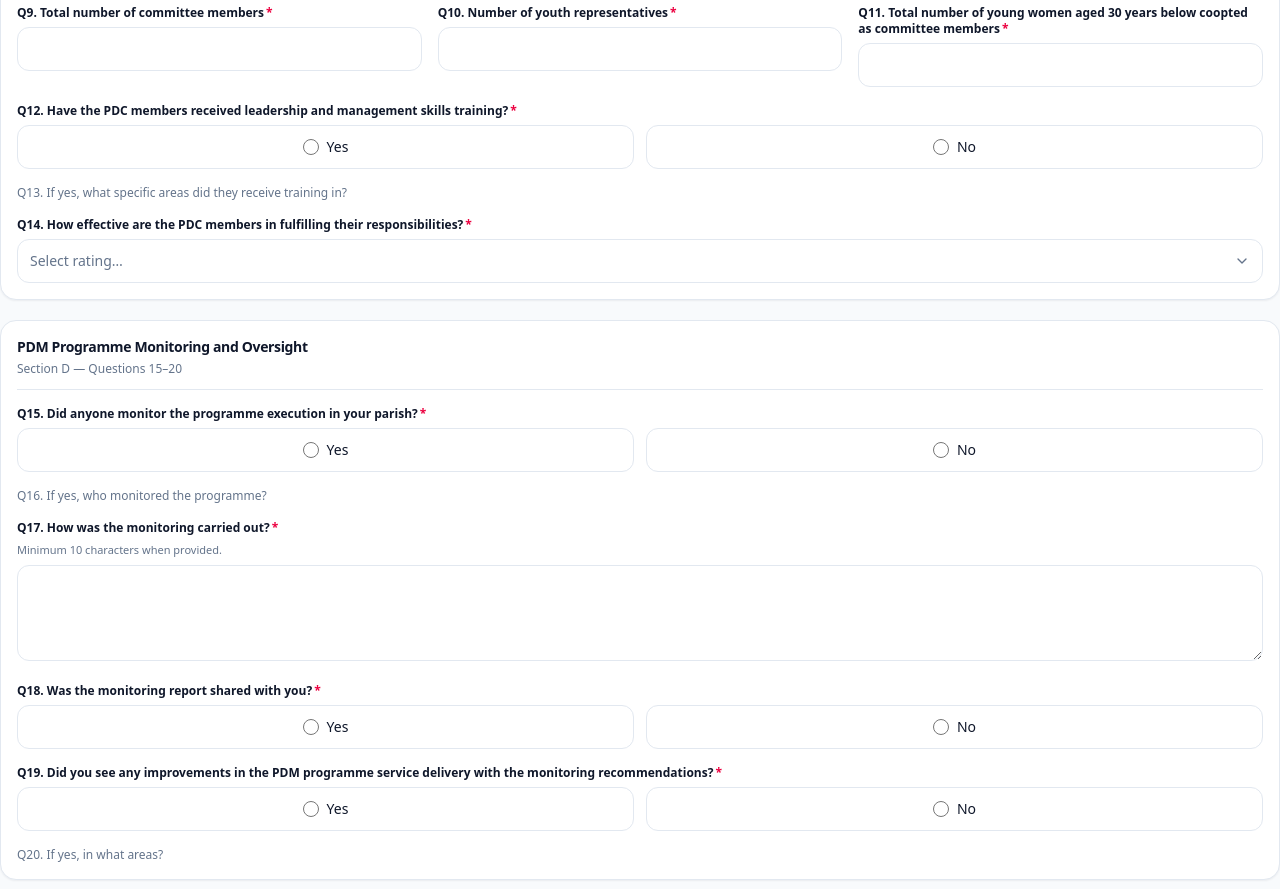
Test: PcForm › Q15 Yes shows Q16 checkboxes dynamically
The width and height of the screenshot is (1280, 889).
(page scrolled)
Check: the field labelled "CAO" is not shown
Click the 3rd radio button at (311, 450), box [303, 442, 319, 458]
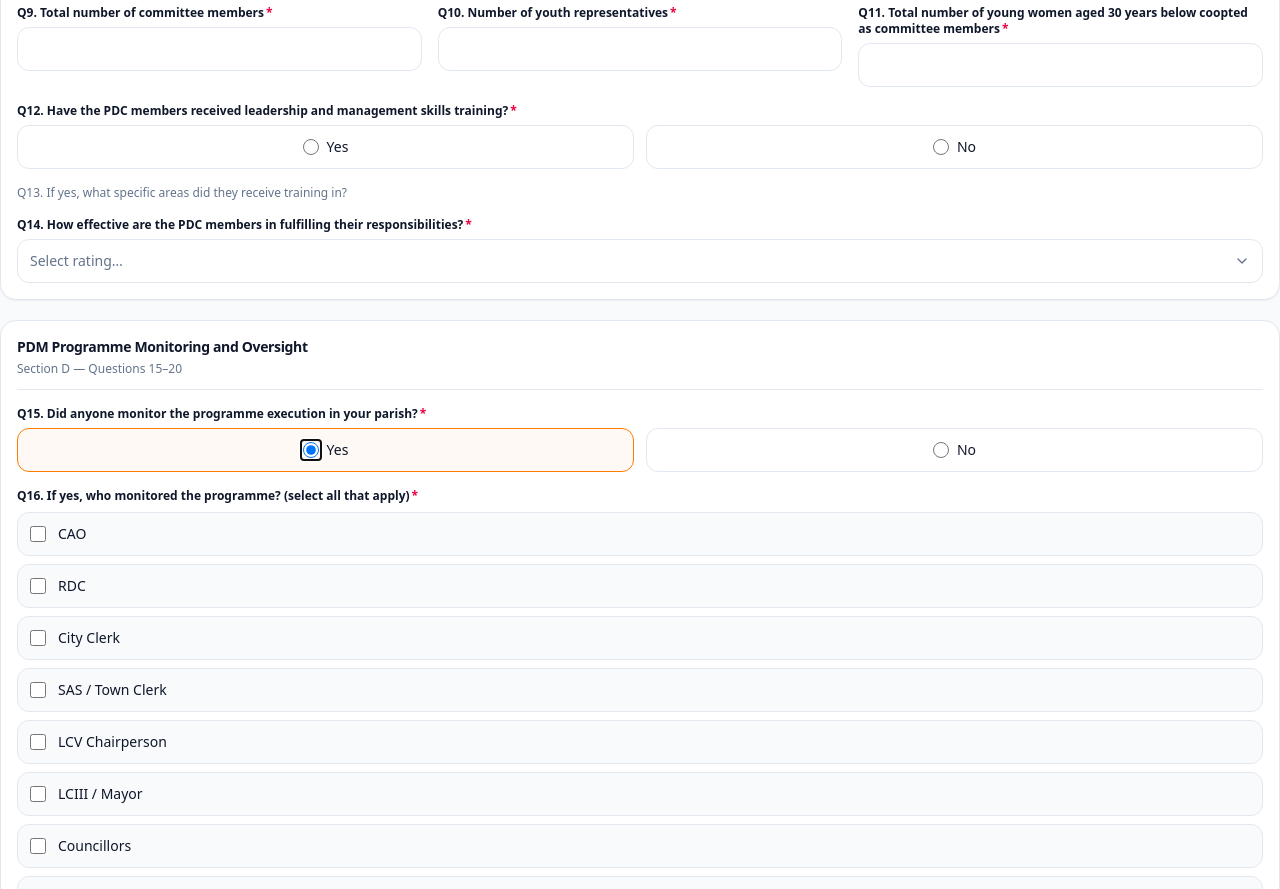
Check: the checkbox labelled "CAO" is shown, box [30, 526, 46, 542]
Check: the text "Q16. If yes, who monitored the programme? (select all that apply)" is shown, box [17, 487, 410, 504]
Click the 2nd radio button labelled "No" at (941, 450), box [933, 442, 949, 458]
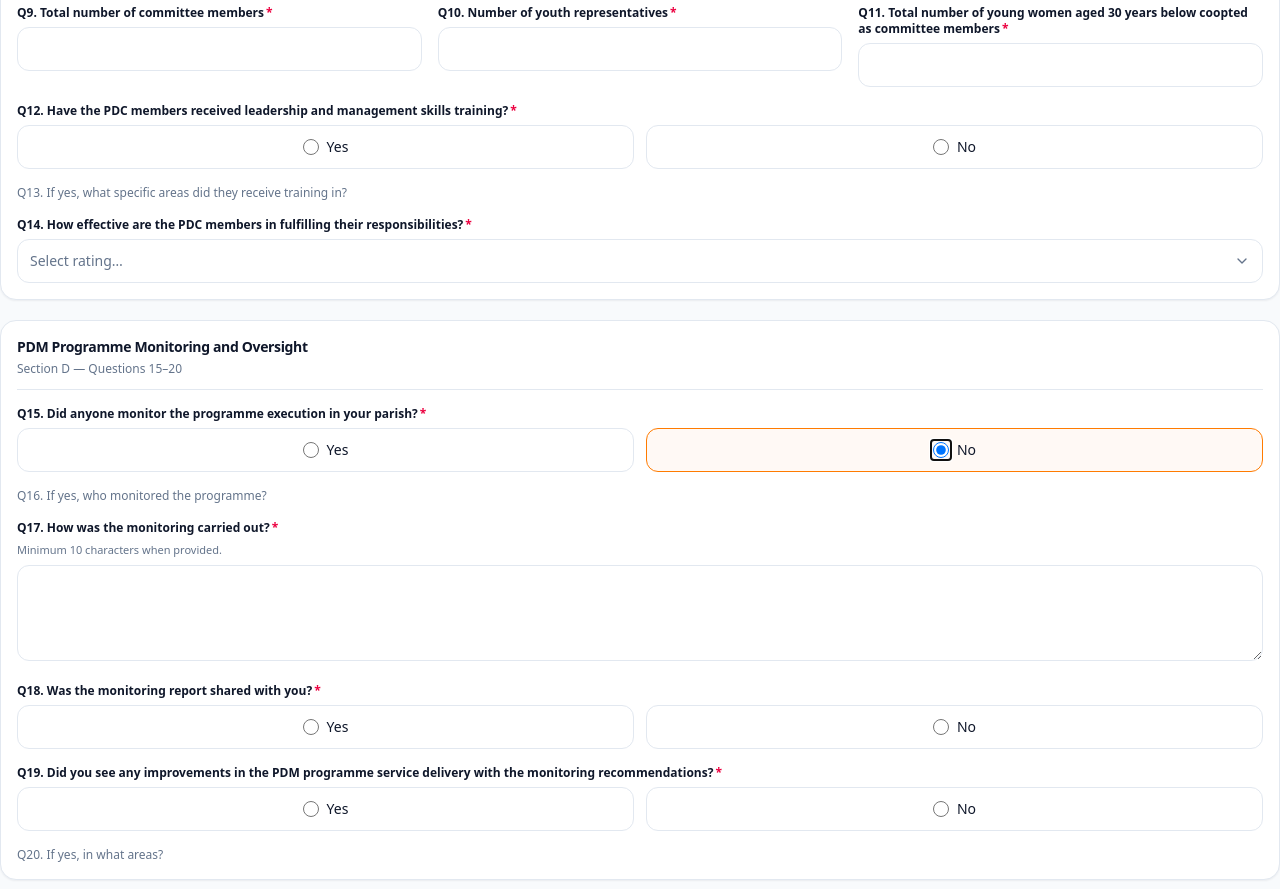
Check: the text labelled "CAO" is gone
